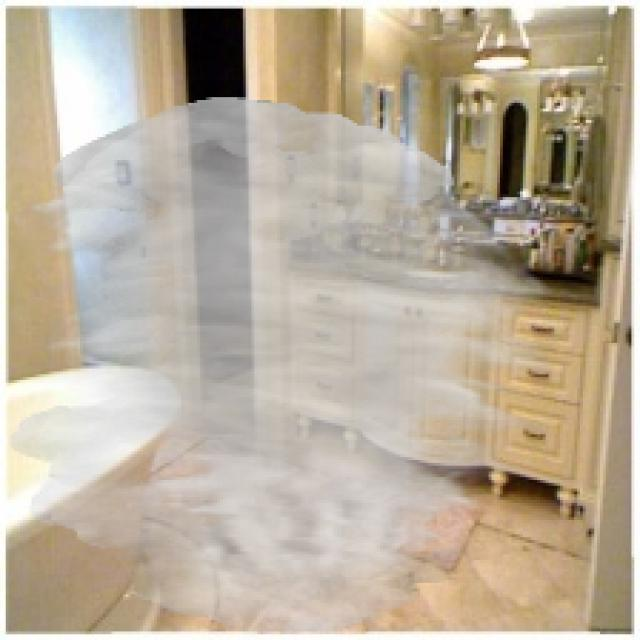Smoke: (8, 97, 554, 634)
